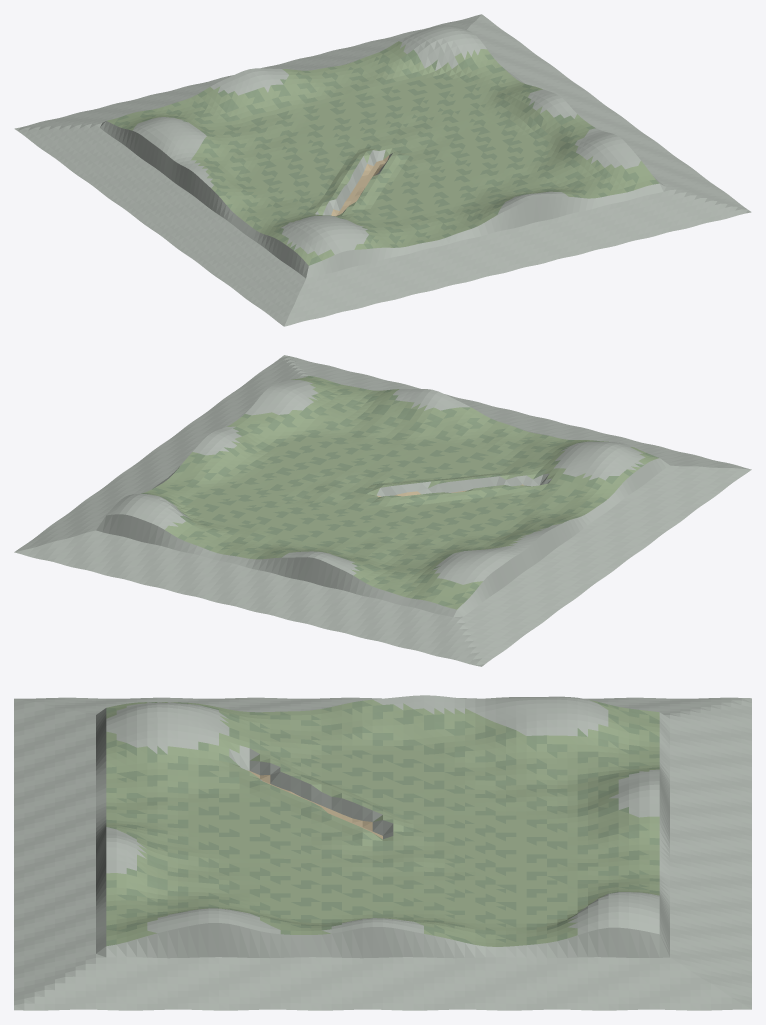
The model's file is SM_IslandReliefV5_Mobile.fbx.
The picture shows the model from 3 angles, top to bottom: view 1: azimuth 30°, elevation 25°; view 2: azimuth 150°, elevation 25°; view 3: azimuth 270°, elevation 25°; orthographic projection. The views are drawn at different scales.
Visible parts, largest first — view 1: SM_IslandReliefV5_Mobile; view 2: SM_IslandReliefV5_Mobile; view 3: SM_IslandReliefV5_Mobile.
Part boxes in pixels (x1=…): SM_IslandReliefV5_Mobile: x1=14, y1=14, x2=751, y2=326; SM_IslandReliefV5_Mobile: x1=14, y1=355, x2=751, y2=666; SM_IslandReliefV5_Mobile: x1=14, y1=695, x2=751, y2=1010.
Size of the model in its own units: 34 by 34 by 2.66.
